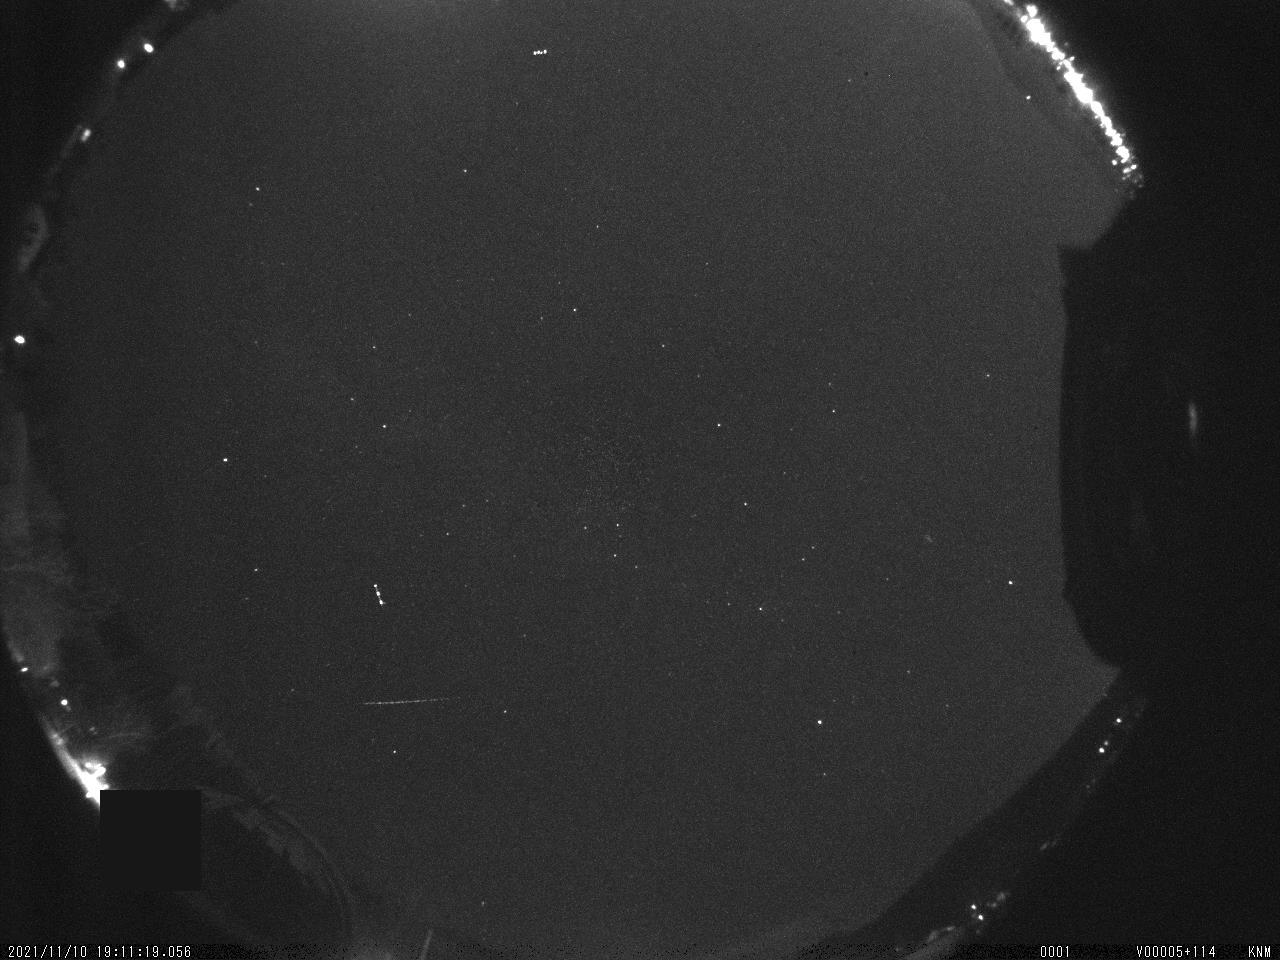meteor: (332, 679, 482, 720)
